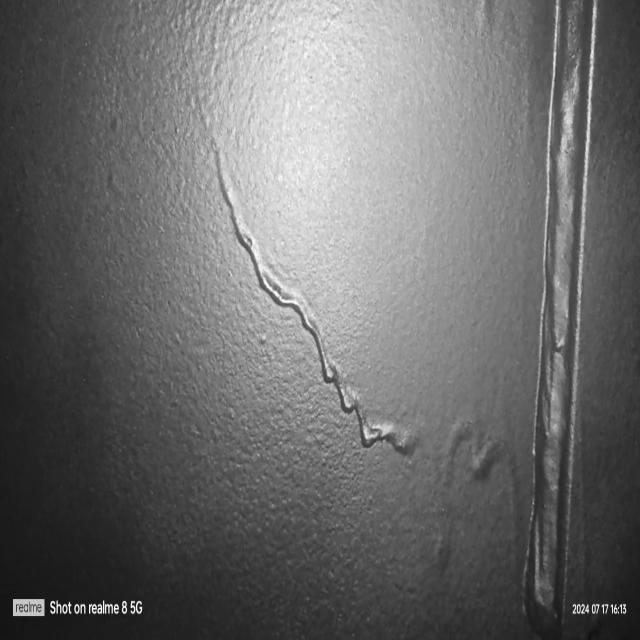paint drips: (203, 118, 418, 486), (420, 420, 524, 588)
